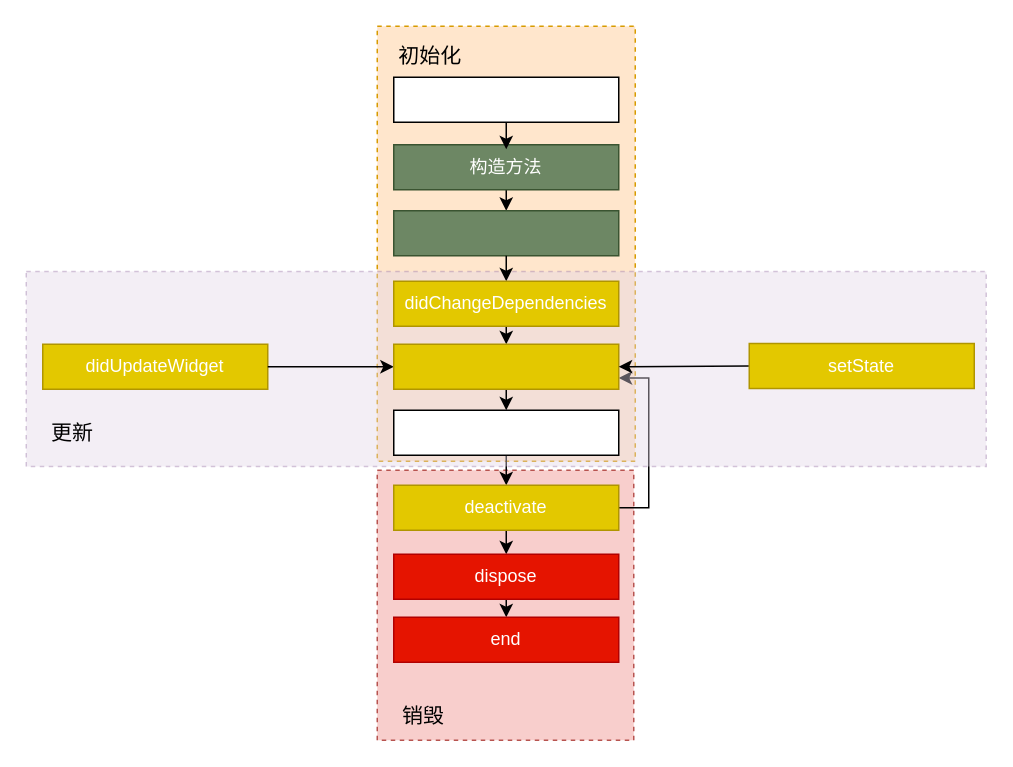
This 1013x767 diagram has some shape labels left out. Here are the shapes that lost their labels. From the top down, the box of each, then its label:
(392, 76, 619, 122): Start
(392, 209, 619, 256): initState
(392, 343, 619, 389): build
(392, 409, 619, 455): tree
